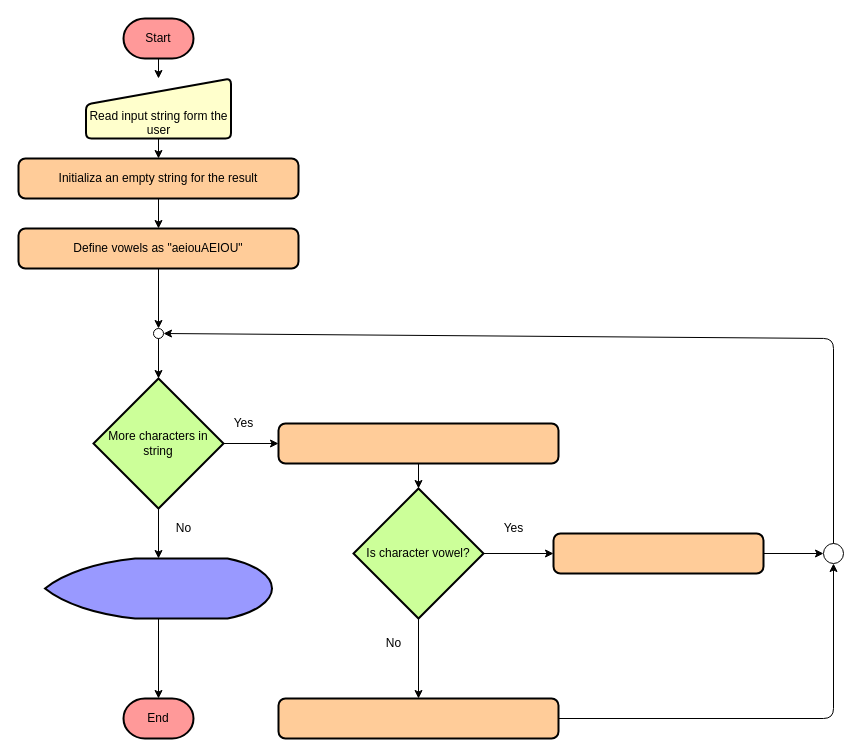
Image size: 861x756. Some labels were removed from this diagram. The shapes that lost their labels are listed below. From the top down, each one's centre as x and y in pixels, then its label:
At [418,443]: "Convert character to uppercase".
At [658,553]: "Add an asterisk to the result".
At [158,588]: "Print the modified string".
At [418,718]: "Add the uppercase character to the result".
